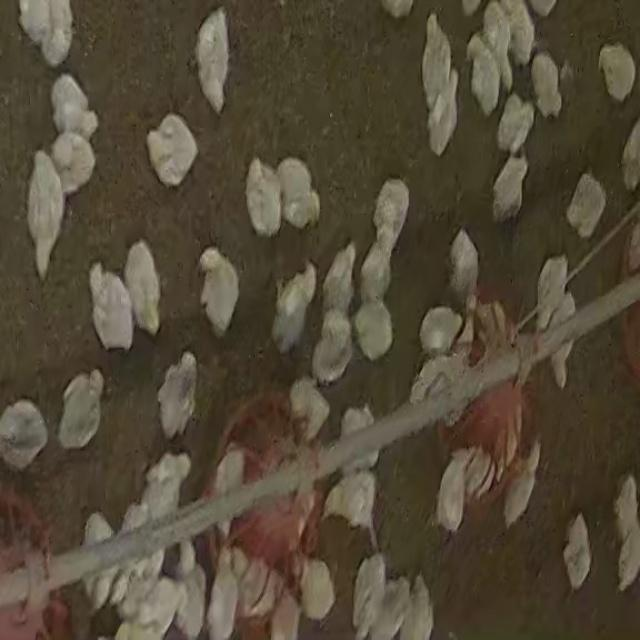chicken: (26, 151, 66, 277), (134, 449, 192, 535), (326, 469, 383, 552), (199, 246, 246, 344), (88, 261, 137, 353), (271, 263, 317, 356), (79, 509, 120, 613), (500, 438, 545, 532), (144, 112, 199, 188), (429, 448, 473, 542), (194, 7, 231, 114), (156, 349, 198, 442), (115, 576, 175, 640), (207, 446, 249, 536), (17, 1, 75, 66), (57, 370, 104, 450), (124, 240, 162, 337), (0, 398, 49, 472), (276, 156, 323, 231), (540, 292, 576, 389), (422, 13, 454, 119), (173, 534, 205, 640), (310, 311, 355, 385), (244, 158, 285, 236), (204, 551, 241, 637), (235, 552, 281, 620), (466, 34, 504, 116), (350, 553, 388, 634), (407, 353, 461, 410), (564, 170, 607, 240), (51, 130, 98, 194), (288, 375, 332, 443), (533, 256, 570, 336), (50, 74, 95, 139), (426, 68, 458, 158), (478, 2, 513, 84), (371, 178, 412, 248), (336, 403, 375, 473), (352, 299, 394, 363), (491, 154, 529, 222), (448, 227, 480, 307), (598, 41, 638, 104), (320, 246, 356, 314), (500, 0, 536, 68), (298, 558, 336, 622), (496, 92, 535, 154), (369, 577, 408, 639), (358, 239, 394, 305), (562, 514, 592, 593), (397, 578, 434, 640), (418, 304, 463, 354), (530, 51, 562, 118), (612, 475, 640, 541), (462, 449, 494, 504), (620, 105, 640, 192), (268, 592, 302, 640), (616, 527, 639, 595)
